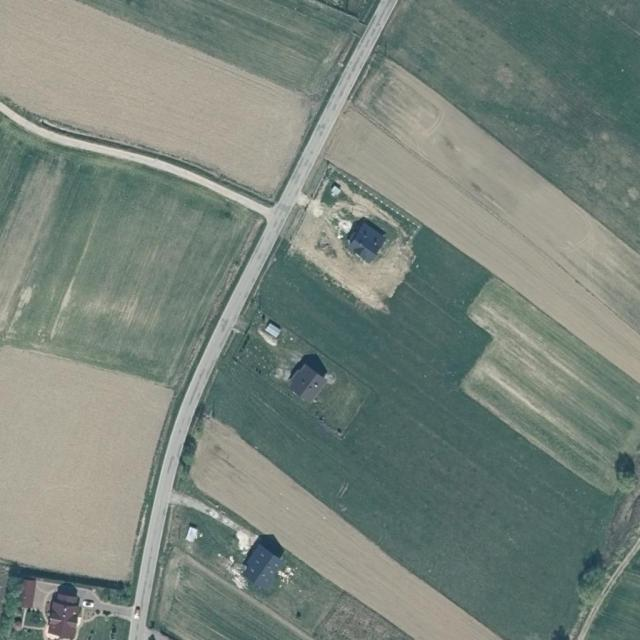agricultural_land: (172, 161, 640, 640), (315, 54, 640, 383), (426, 274, 640, 499), (256, 553, 343, 636)
building: (237, 529, 291, 594), (281, 349, 338, 407), (339, 213, 392, 265), (44, 581, 85, 640), (21, 577, 36, 609), (263, 320, 283, 339)
dryland: (317, 167, 420, 255), (285, 206, 380, 294), (343, 227, 421, 314)
greenland: (574, 562, 605, 606), (577, 547, 607, 590), (614, 452, 635, 481), (585, 553, 601, 560)
unmetalled_road: (0, 102, 275, 220), (167, 482, 258, 555)
